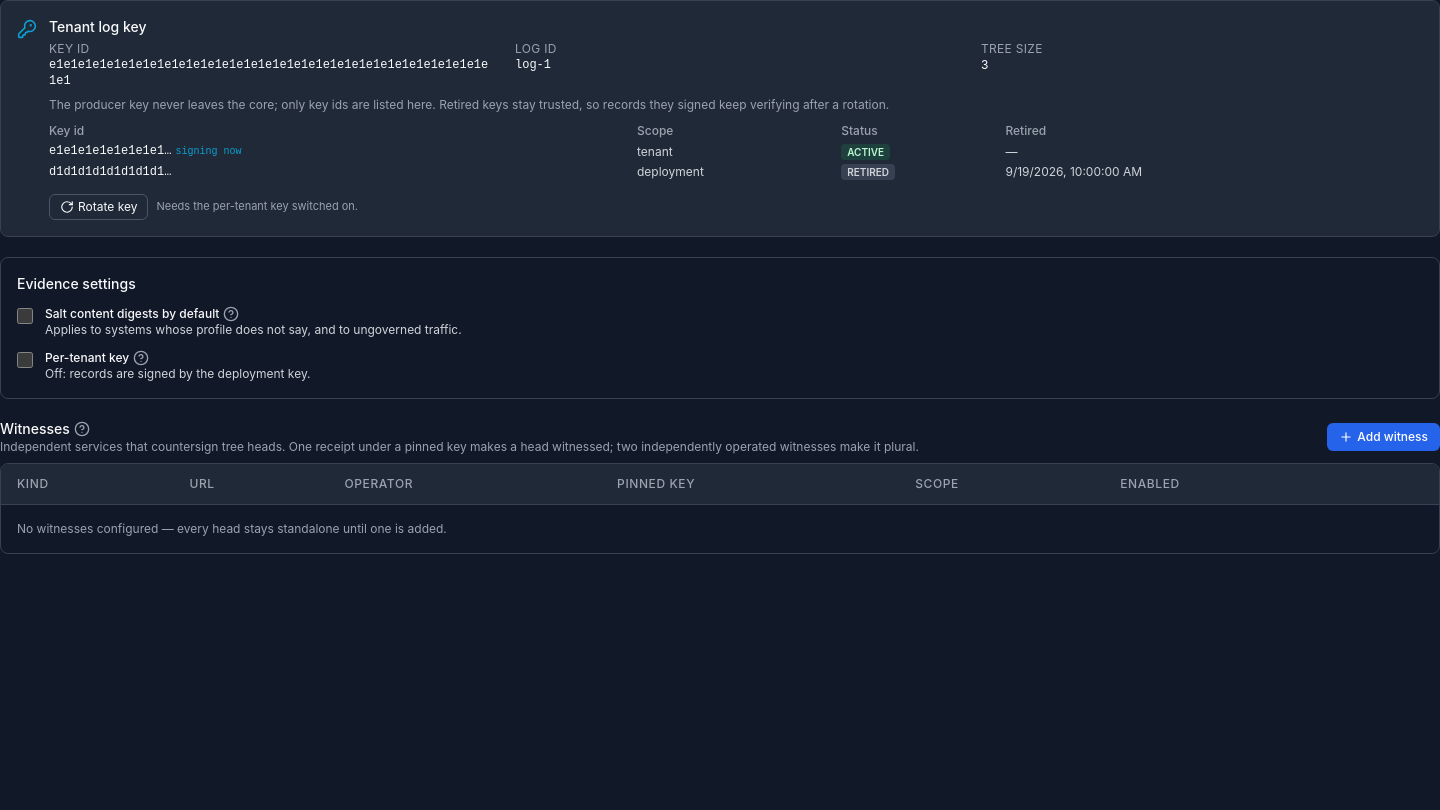
Test case: witness form validation › a non-http URL and a blank operator are refused on submit
The image size is (1440, 810).
Expected: the cell with test id "witnesses-empty" is shown, [1, 504, 1439, 553]
Click the button with test id "witness-add": (1384, 437) [1327, 423, 1439, 451]
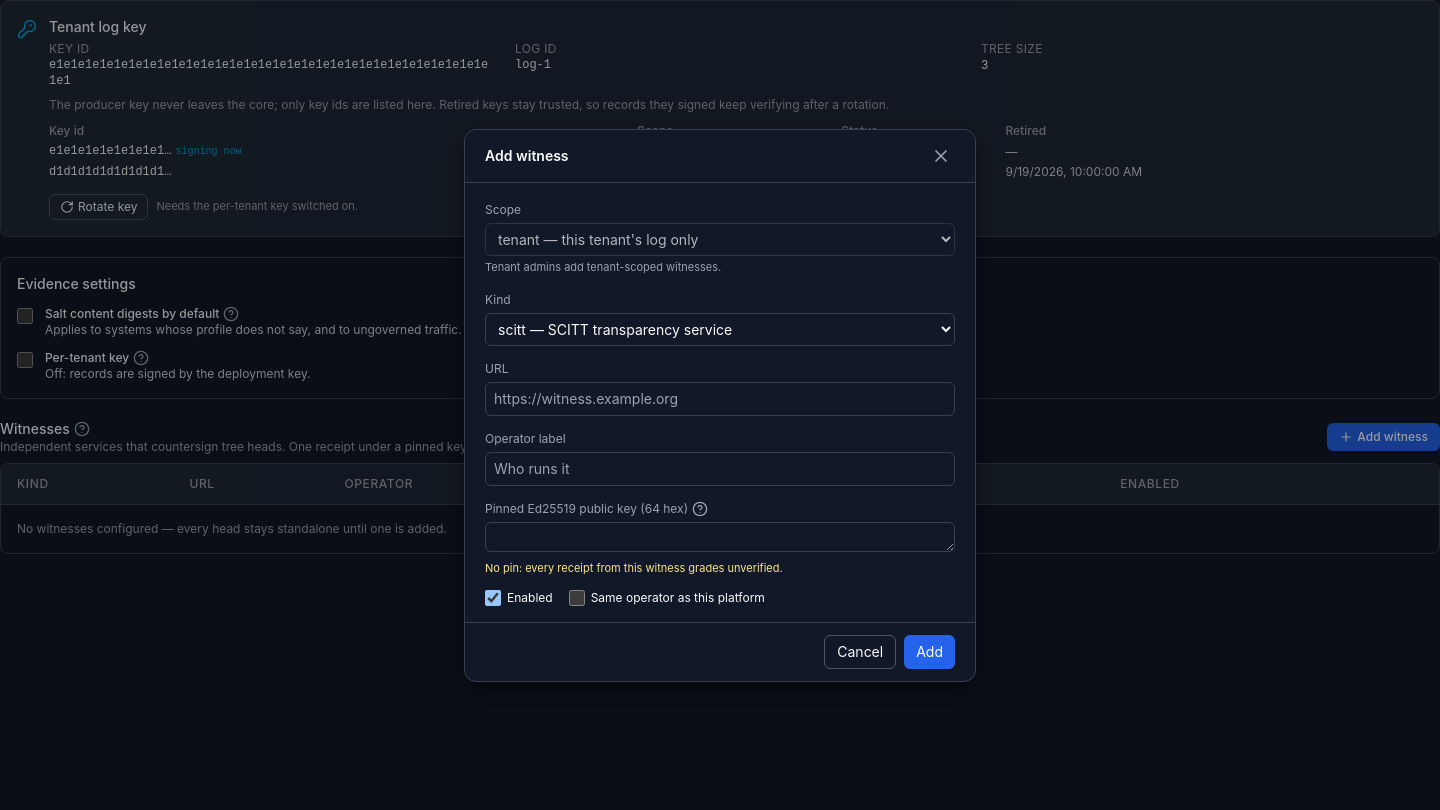
In the field with test id "witness-url": (720, 398) [485, 382, 955, 416], type "ftp://w.example.org"
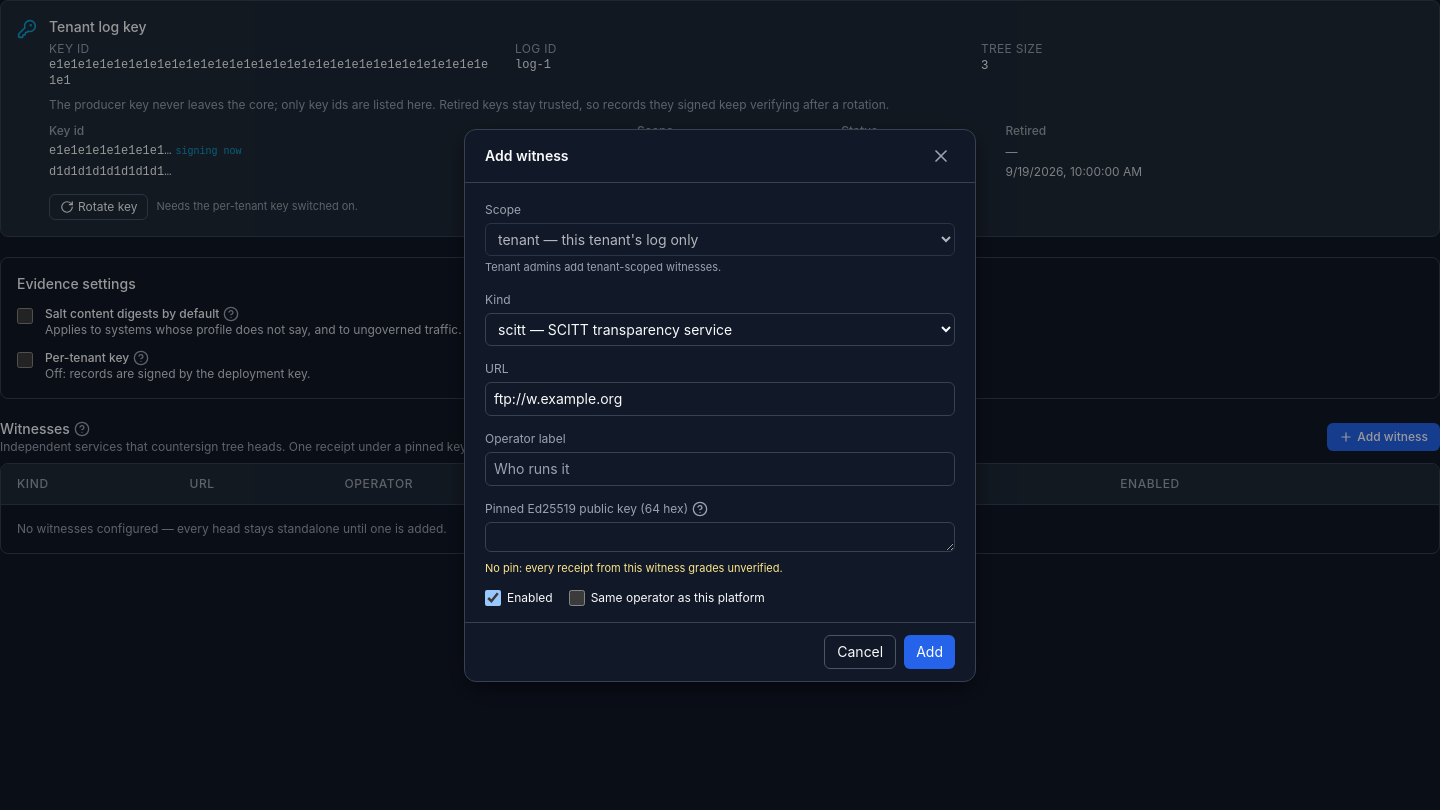
Click the button with test id "witness-save": (930, 652) [904, 634, 955, 668]
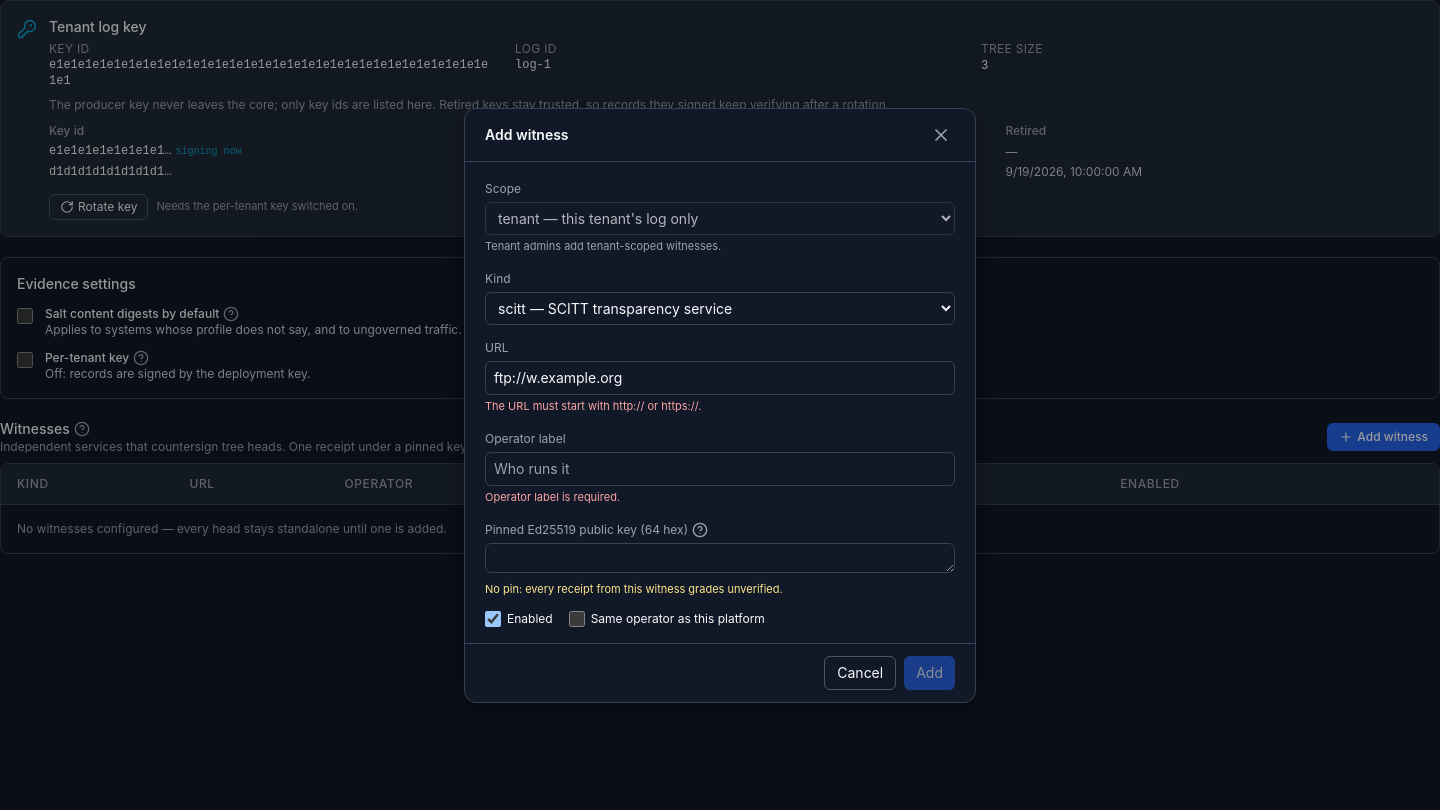
Now the text with test id "witness-url-error" shows "http", box [485, 398, 701, 412]
Now the text "Operator label is required." is shown, box [485, 490, 620, 504]
